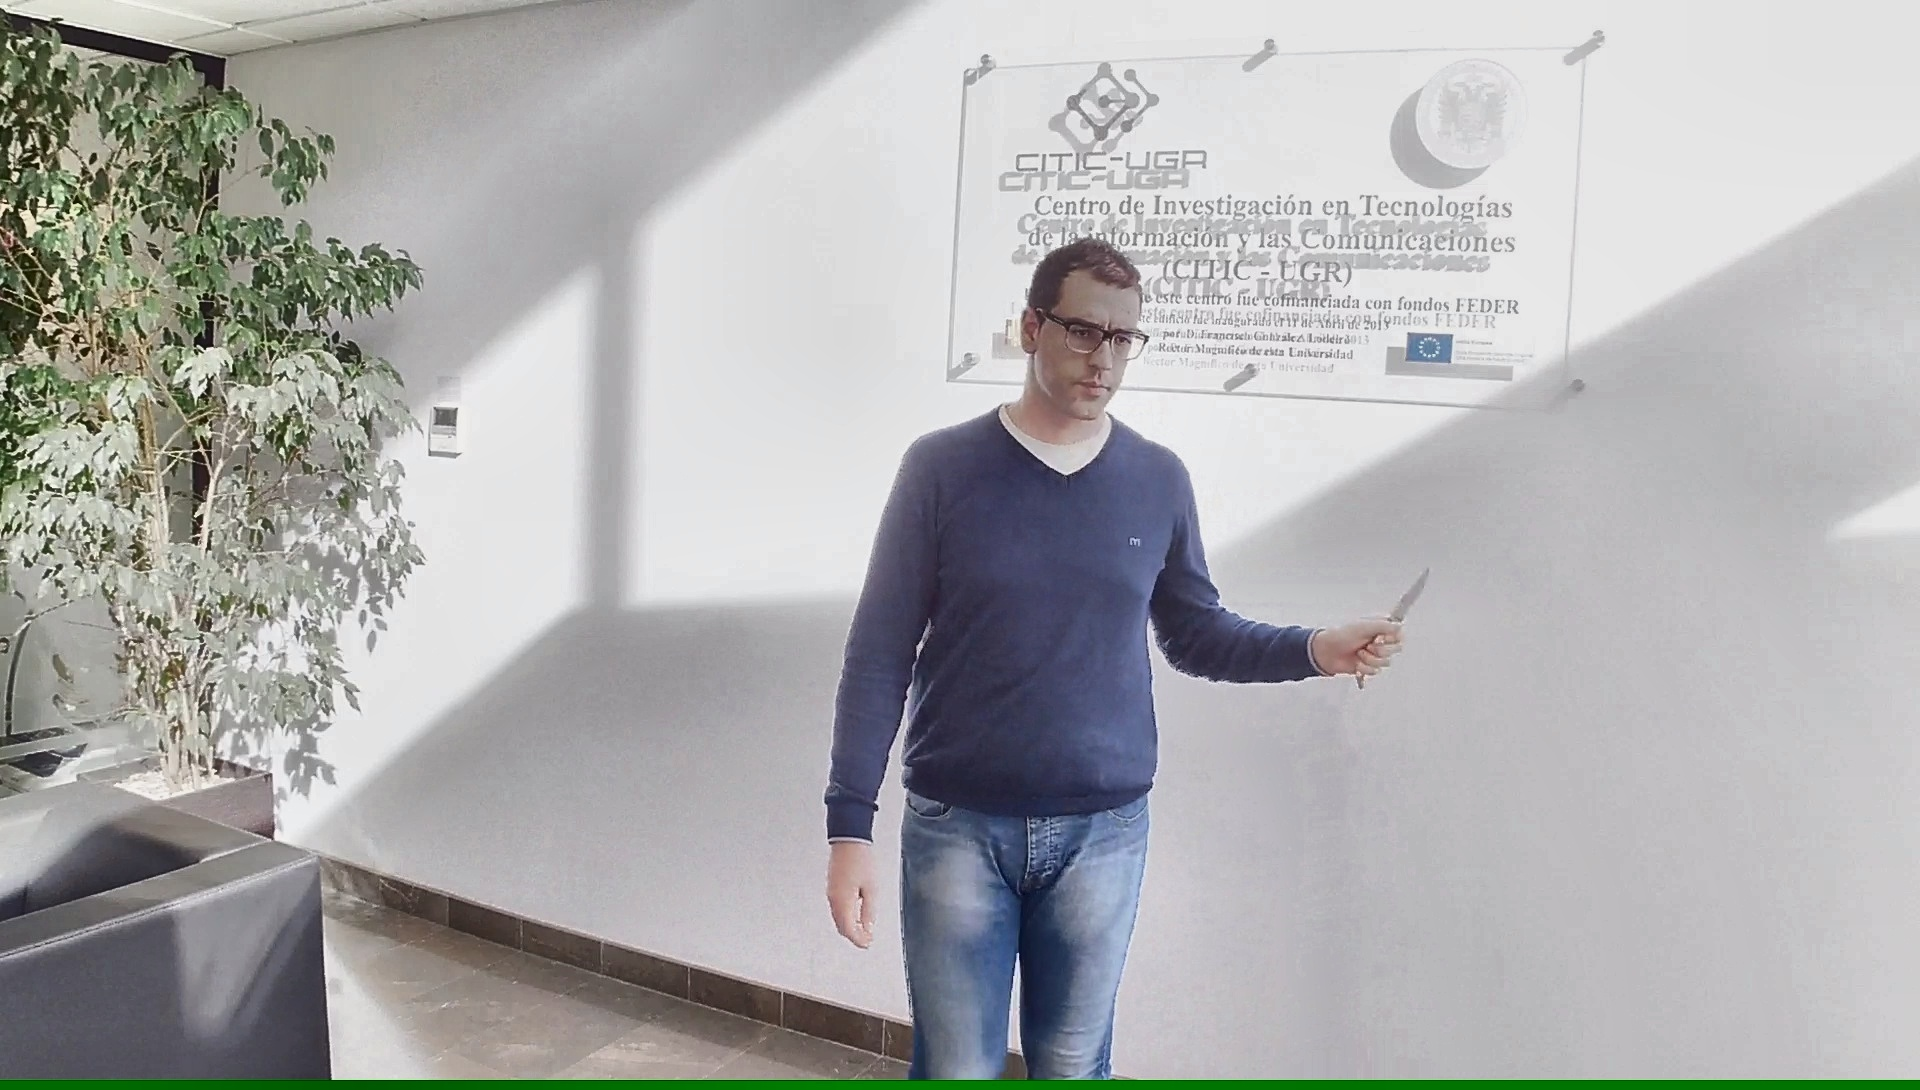knife: (1348, 558, 1437, 693)
